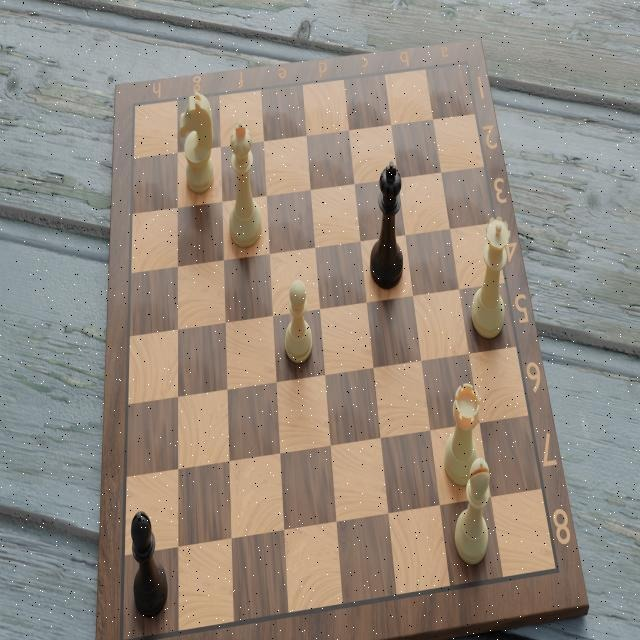black-bishop: (126, 493, 174, 635)
black-king: (367, 155, 408, 290)
white-bishop: (451, 439, 492, 580)
white-king: (217, 114, 271, 261)
white-knight: (170, 92, 224, 201)
white-pawn: (277, 279, 321, 369)
white-queen: (466, 214, 516, 348)
white-rook: (438, 380, 485, 491)
